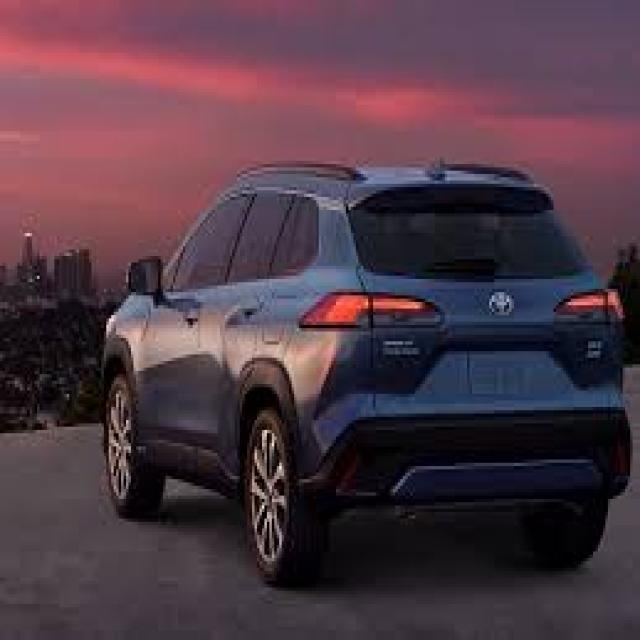SUV: (94, 153, 638, 582)
